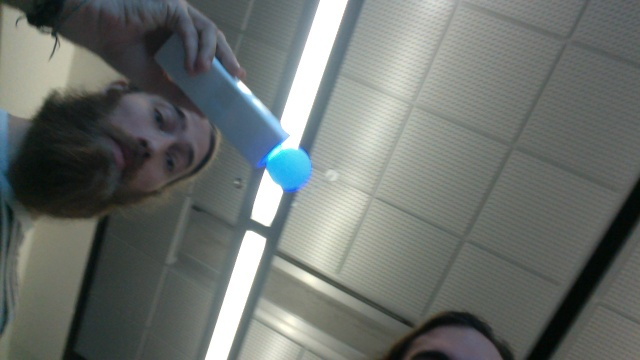wand: (269, 147, 311, 189)
